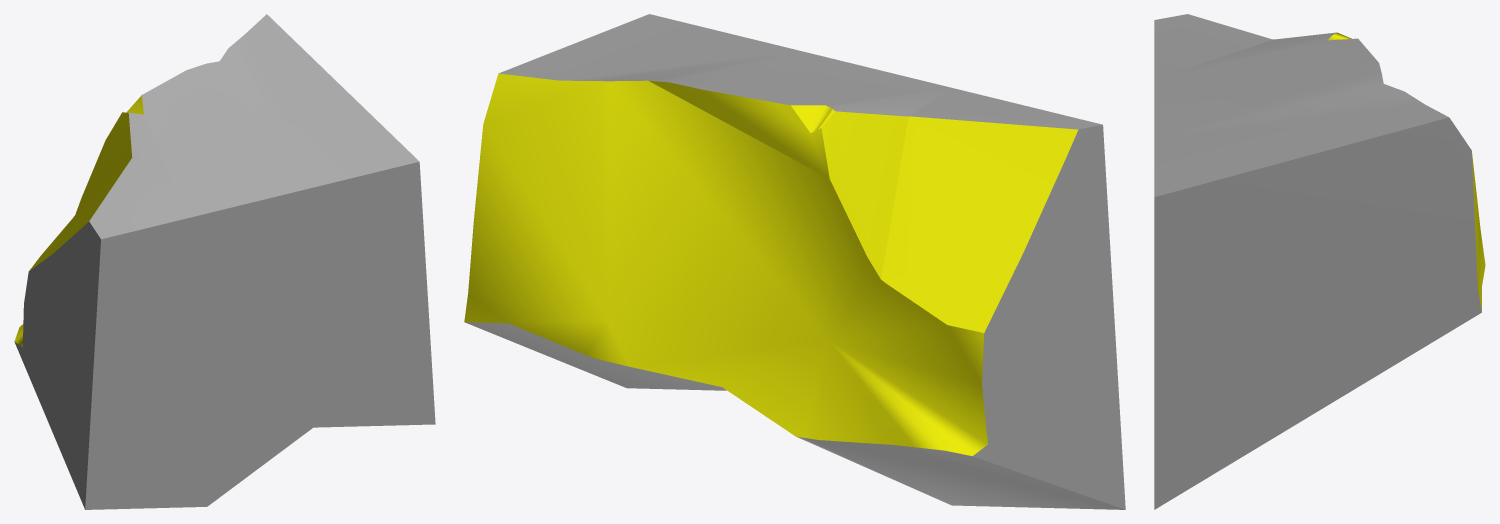
The model's file is Bridge1.fbx.
3 renders of one model, left to right at view 1: azimuth 30°, elevation 25°; view 2: azimuth 150°, elevation 25°; view 3: azimuth 270°, elevation 25°, orthographic. The views are drawn at different scales.
Visible parts, largest first — view 1: shard7; view 2: shard7; view 3: shard7.
Boxes of the visible parts, <box> form: shard7: <box>14,14,435,509</box>; shard7: <box>464,14,1125,509</box>; shard7: <box>1154,14,1485,509</box>.
Size of the model in its own units: 138 by 132 by 98.72.
